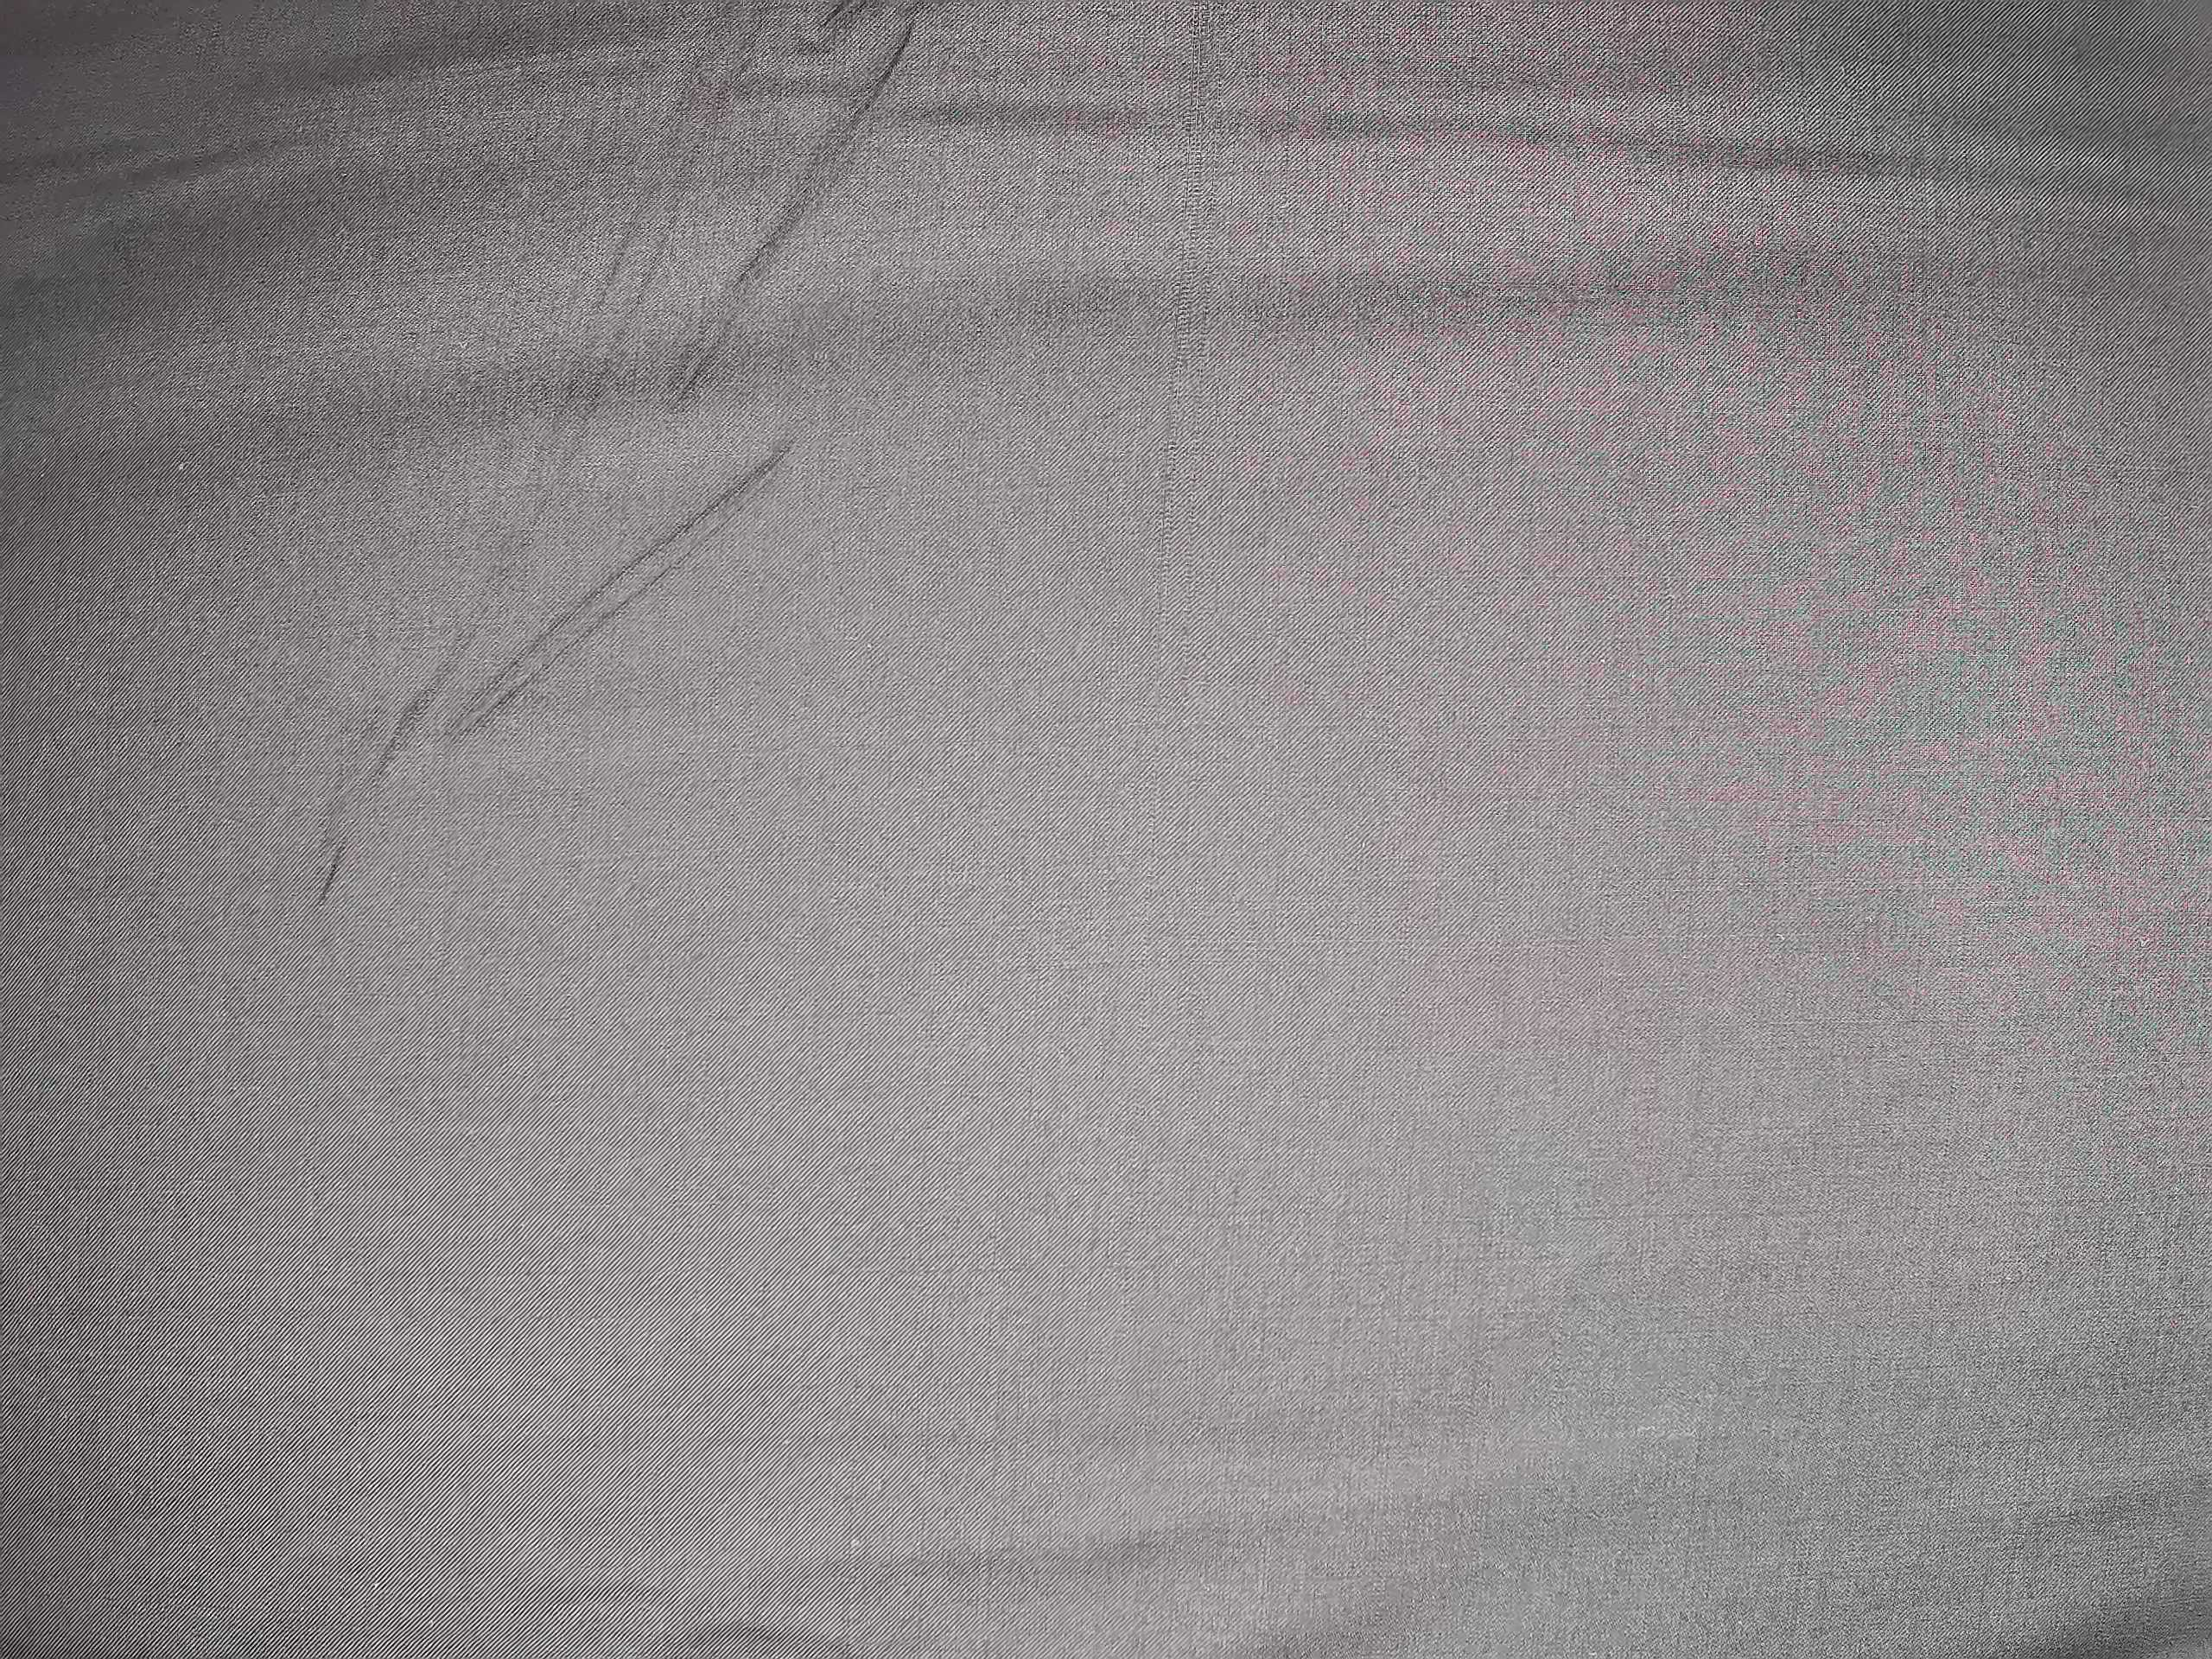lacking-warp: (1144, 7, 1224, 720)
